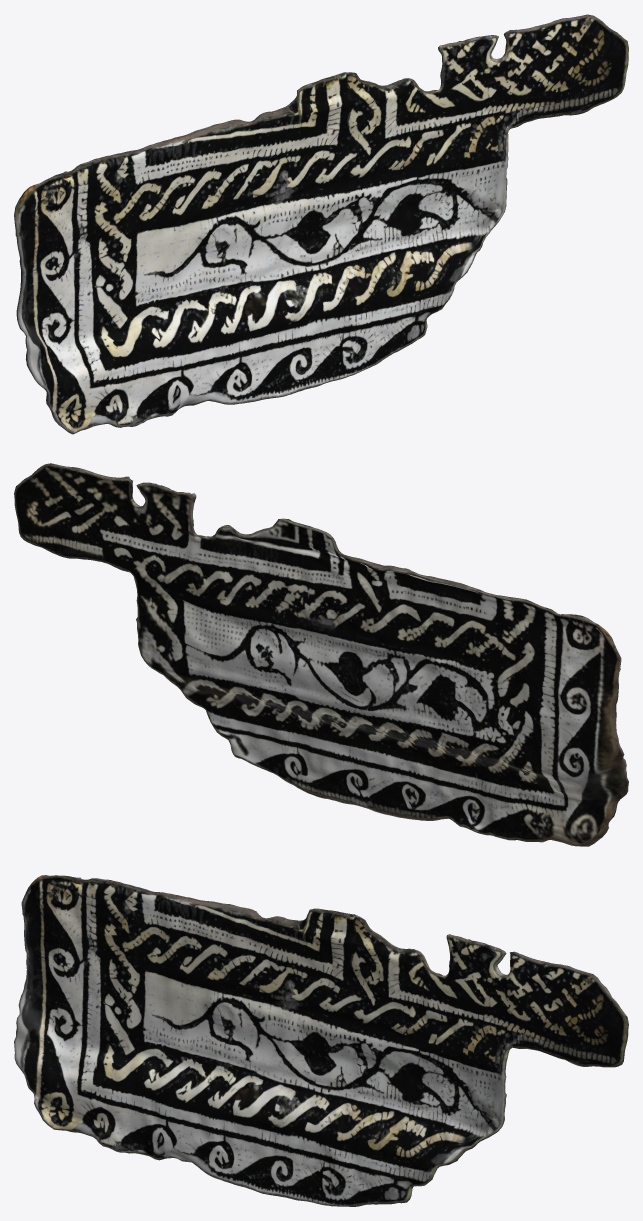
Rendered from primary-compressed.glb.
3 renders of one model, top to bottom at view 1: azimuth 30°, elevation 25°; view 2: azimuth 150°, elevation 25°; view 3: azimuth 330°, elevation 25°, orthographic. The views are drawn at different scales.
Size of the model in its own units: 2 by 0.9148 by 0.1346.
Materials: 1 (1 with a texture image).
